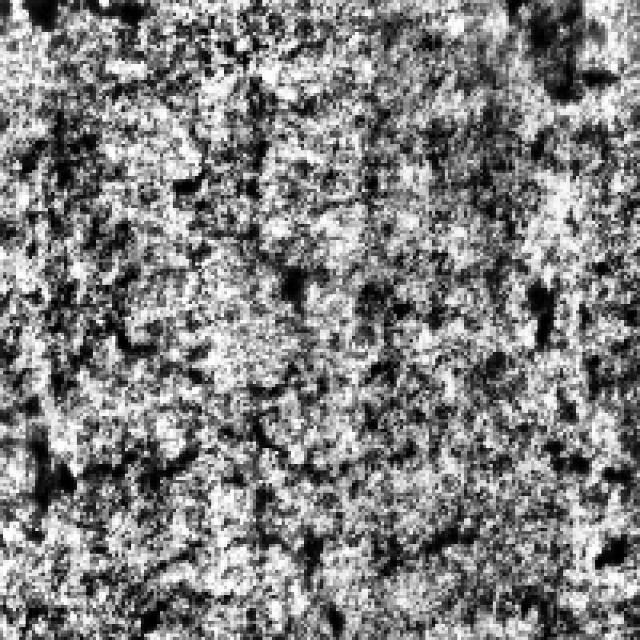Pitted_Surface: (240, 358, 467, 628), (0, 308, 205, 502)
